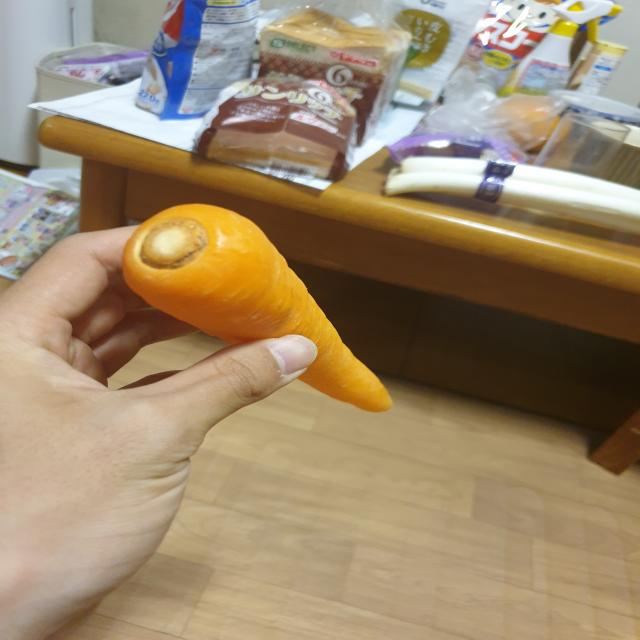carrot: (107, 194, 419, 425)
